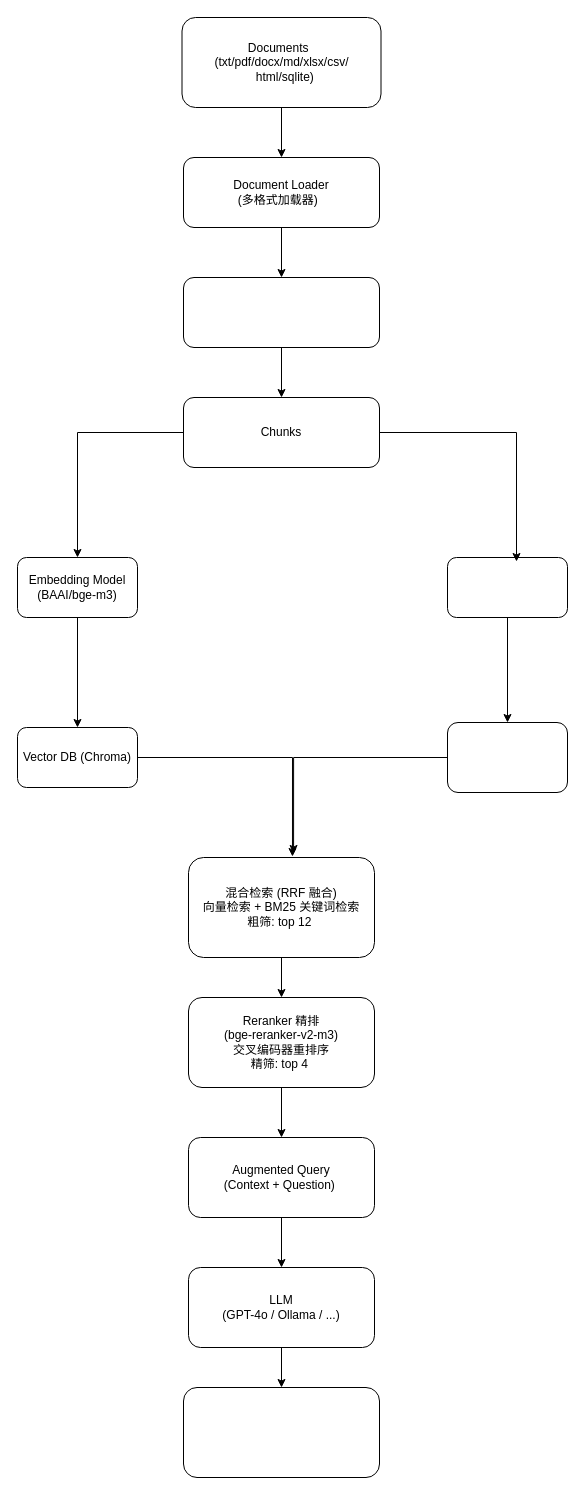
Image size: 585x1495. Some labels were removed from this diagram. Each missing label, with the centre of its shape:
"Answer" goes at pixel 281 1432.
"BM25 Index (jieba 分词)" goes at pixel 507 587.
"Keyword Index" goes at pixel 507 757.
"Text Splitter (语义分块/递归 字符切分)" goes at pixel 281 312.
